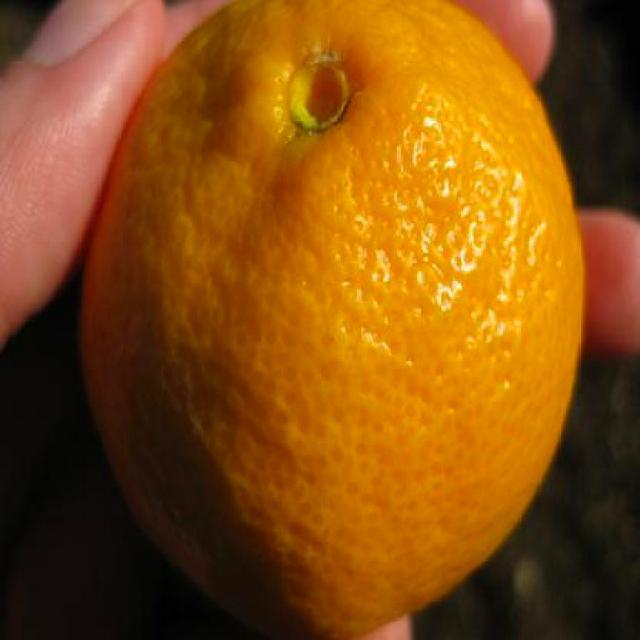Jeruk Sudah Matang: (78, 0, 587, 638)
